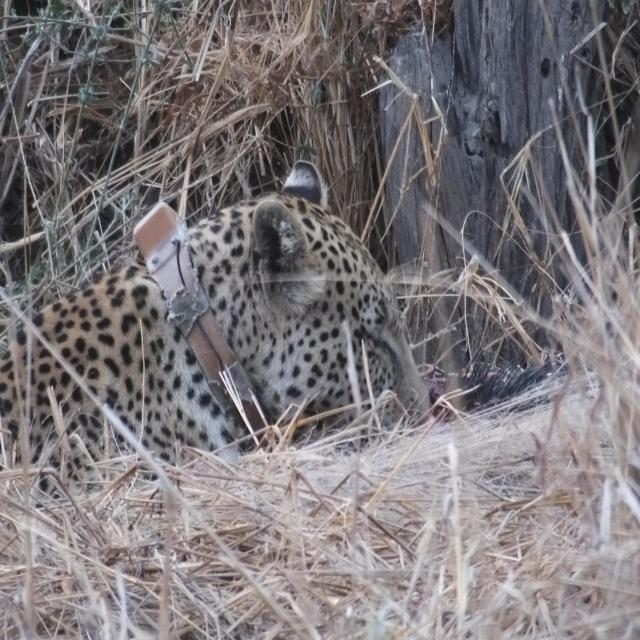Leopard: (7, 169, 439, 495)
